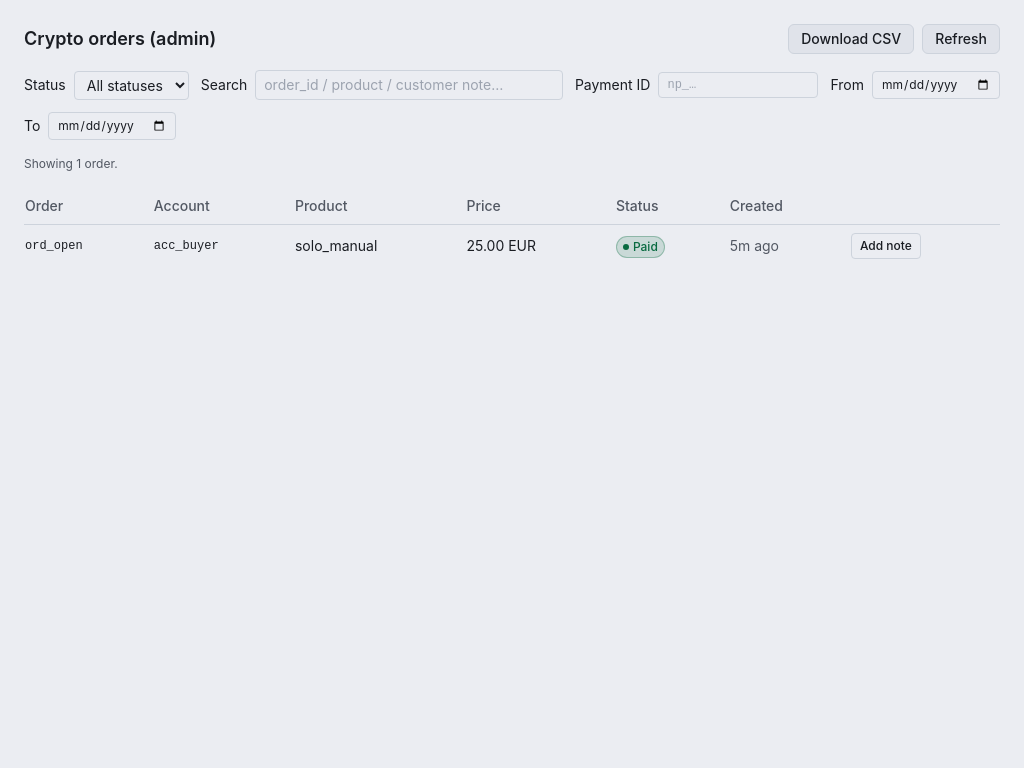
Test: V-534.AM CryptoOrdersAdminView — row click opens detail drawer › clicking a row opens the detail drawer for that order
Step 1. Click the button "ord_open" → x=512, y=246, box x1=24 y1=224 x2=1000 y2=267
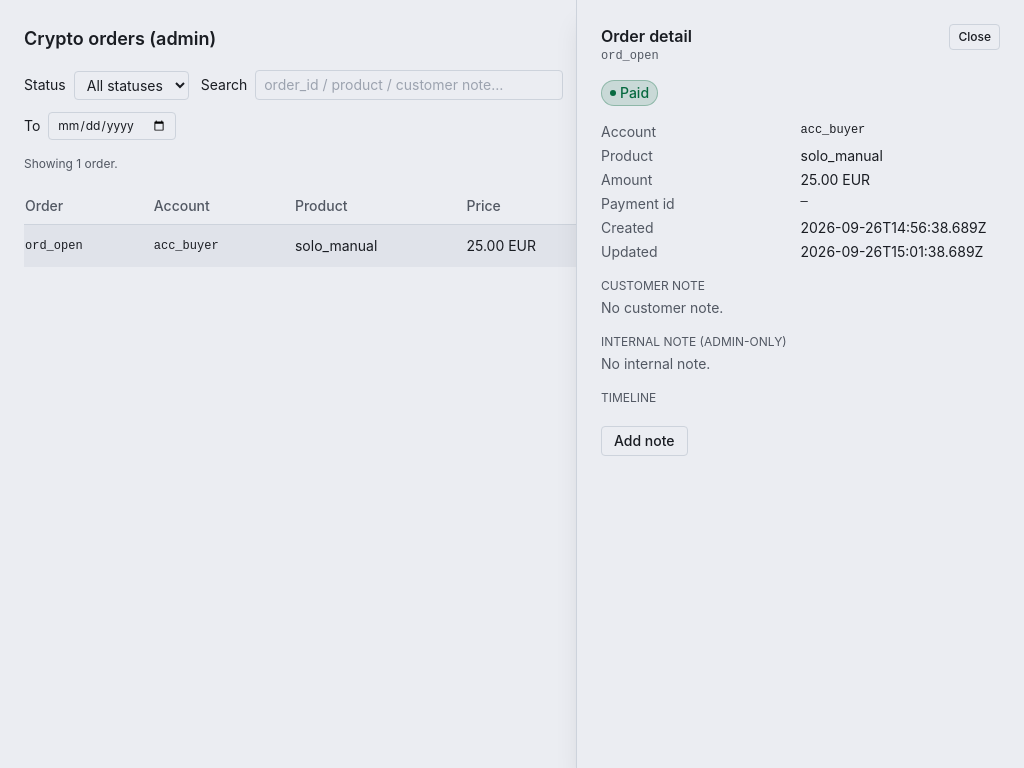
Now the element named "Order detail for ord_open" is shown, box x1=576 y1=0 x2=1023 y2=767
